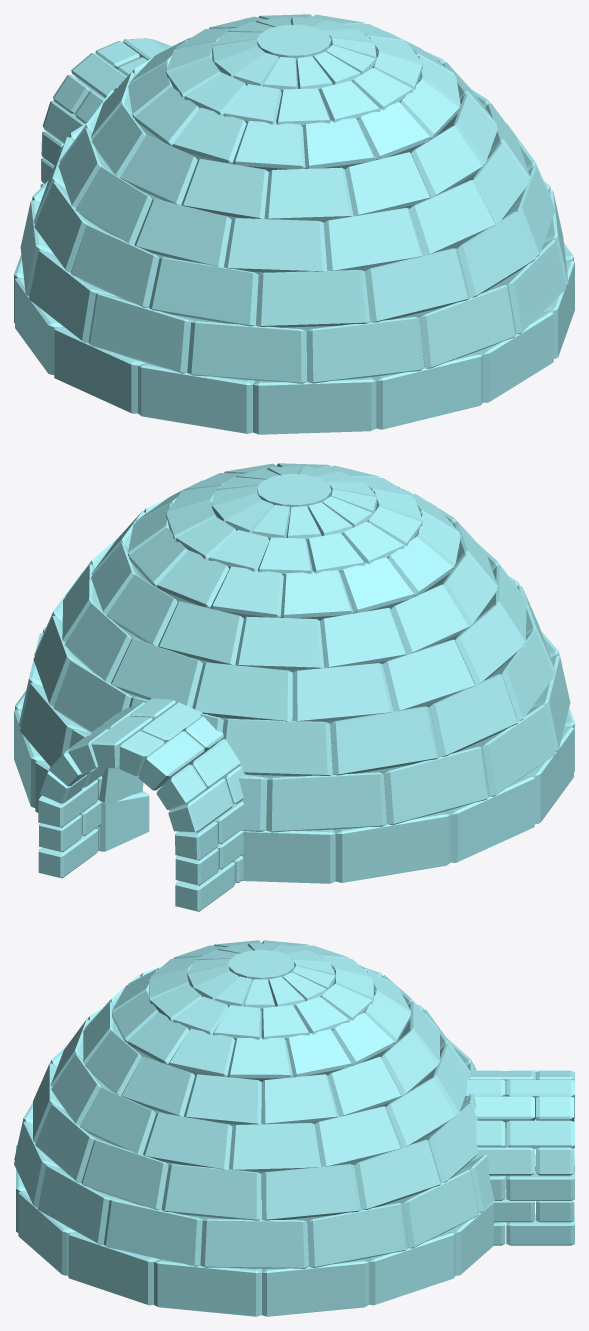
The model's file is Igloo.fbx.
3 renders of one model, top to bottom at view 1: azimuth 30°, elevation 25°; view 2: azimuth 150°, elevation 25°; view 3: azimuth 270°, elevation 25°, orthographic. The views are drawn at different scales.
Visible parts, largest first — view 1: Cube.014; view 2: Cube.014; view 3: Cube.014.
Boxes of the visible parts, x1,y1,x2,y2 form: Cube.014: [14, 14, 574, 434]; Cube.014: [14, 463, 574, 911]; Cube.014: [14, 940, 574, 1316].
Size of the model in its own units: 278 by 152 by 311.
